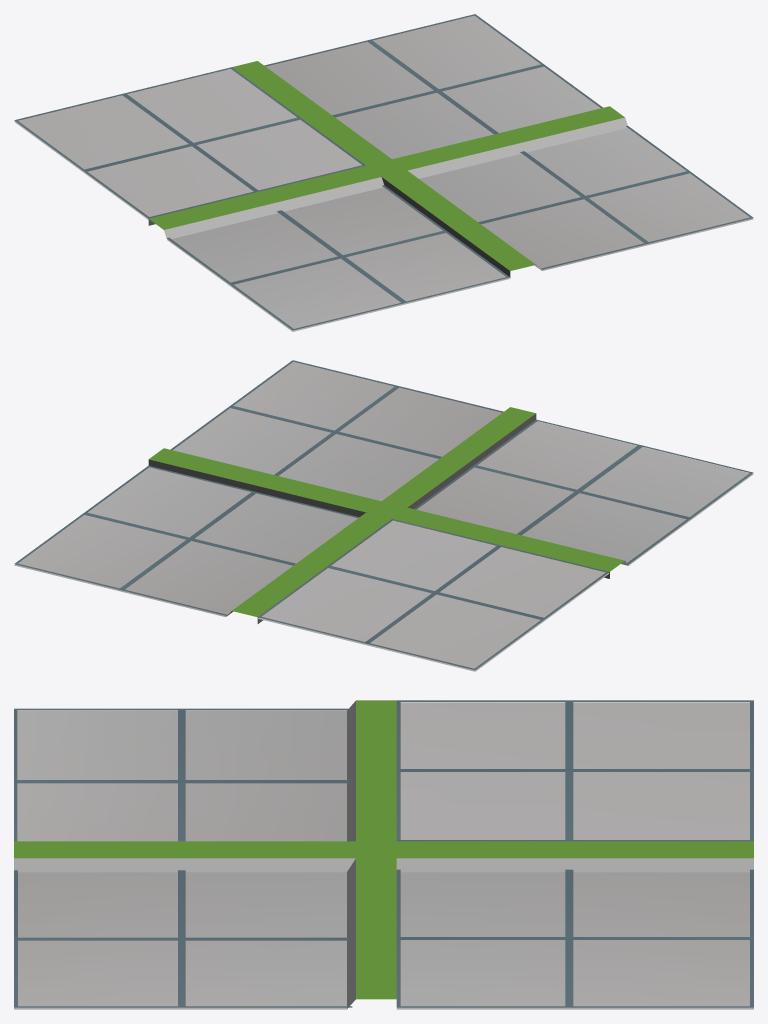
The model's file is SideTile (2).fbx.
The picture shows the model from 3 angles, top to bottom: view 1: azimuth 30°, elevation 25°; view 2: azimuth 150°, elevation 25°; view 3: azimuth 270°, elevation 25°; orthographic projection. The views are drawn at different scales.
Parts seen in each view (by area): view 1: Corner_Tile_01, Side_Tile_01, Side_Tile_02, Centre_Tile_01; view 2: Corner_Tile_01, Side_Tile_02, Side_Tile_01, Centre_Tile_01; view 3: Corner_Tile_01, Side_Tile_02, Side_Tile_01, Centre_Tile_01.
Boxes of the visible parts, <box> form: Corner_Tile_01: <box>366,106,753,277</box>; Side_Tile_01: <box>148,165,509,331</box>; Side_Tile_02: <box>232,14,602,165</box>; Centre_Tile_01: <box>14,67,365,219</box>; Corner_Tile_01: <box>148,360,536,518</box>; Side_Tile_02: <box>14,465,391,623</box>; Side_Tile_01: <box>392,419,753,578</box>; Centre_Tile_01: <box>258,519,609,671</box>; Corner_Tile_01: <box>14,841,396,1009</box>; Side_Tile_02: <box>396,841,753,1009</box>; Side_Tile_01: <box>14,700,396,841</box>; Centre_Tile_01: <box>396,700,753,841</box>.
Size of the model in its own units: 1.66 by 0.0277 by 1.74.
